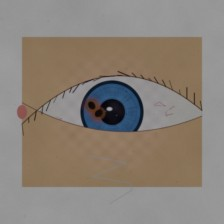foreign_body_visible: (70, 88, 113, 123)
